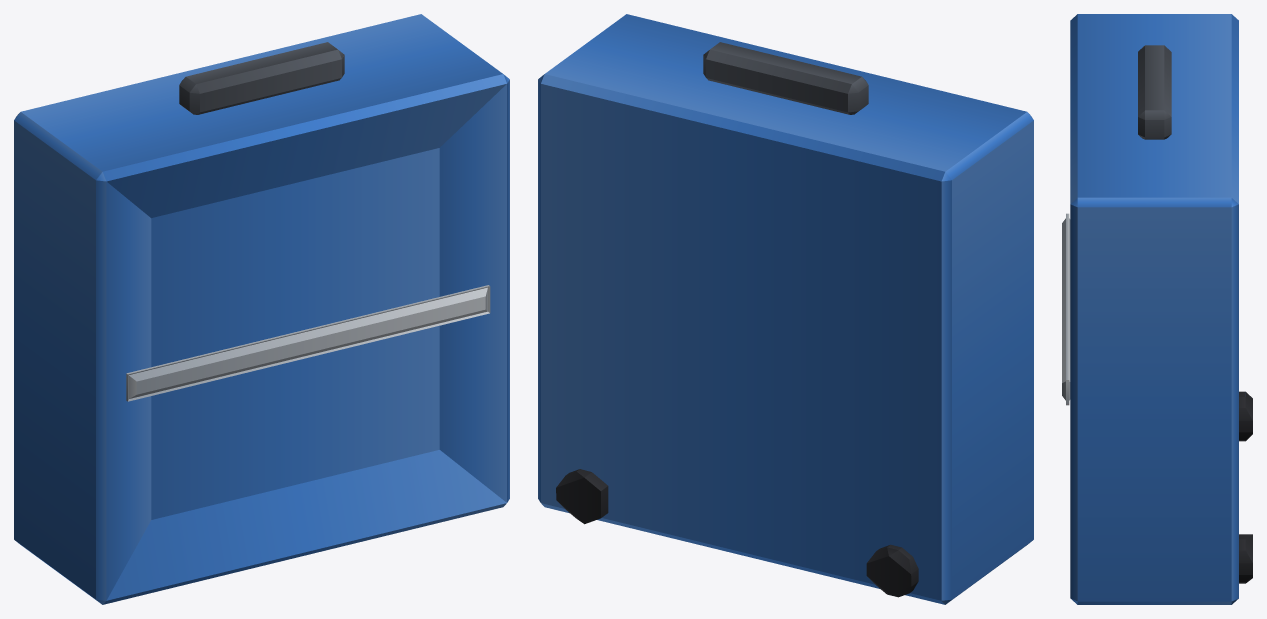
The model's file is dt_suitcase.fbx.
3 views of the same model, side by side, from view 1: azimuth 30°, elevation 25°; view 2: azimuth 150°, elevation 25°; view 3: azimuth 270°, elevation 25° (orthographic). The views are drawn at different scales.
Parts seen in each view (by area): view 1: dt_suitcase; view 2: dt_suitcase; view 3: dt_suitcase.
Boxes of the visible parts, x1=… form: dt_suitcase: x1=14, y1=14, x2=509, y2=604; dt_suitcase: x1=538, y1=14, x2=1033, y2=604; dt_suitcase: x1=1062, y1=14, x2=1252, y2=604.
Size of the model in its own units: 243 by 260 by 103.
